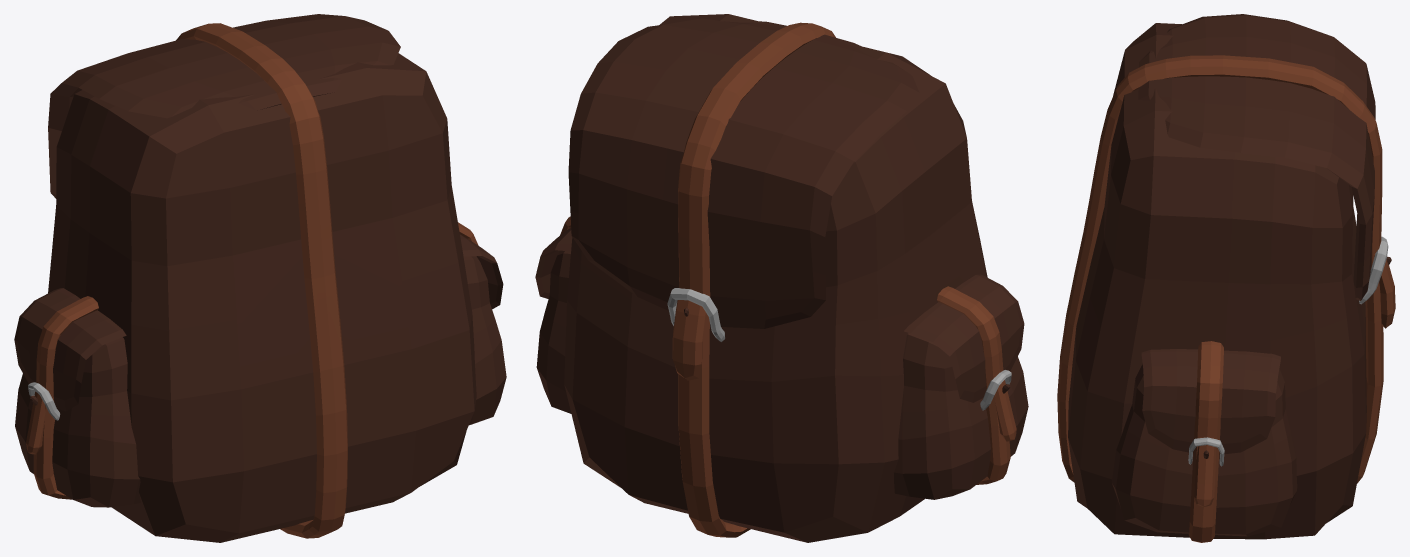
The model's file is backpack.glb.
3 views of the same model, side by side, from view 1: azimuth 30°, elevation 25°; view 2: azimuth 150°, elevation 25°; view 3: azimuth 270°, elevation 25° (orthographic). The views are drawn at different scales.
Visible parts, largest first — view 1: backpack; view 2: backpack; view 3: backpack.
Part boxes in pixels (<box>): backpack: <box>14,14,506,542</box>; backpack: <box>535,14,1028,542</box>; backpack: <box>1057,14,1395,542</box>.
Size of the model in its own units: 1.14 by 1.08 by 0.7336.
